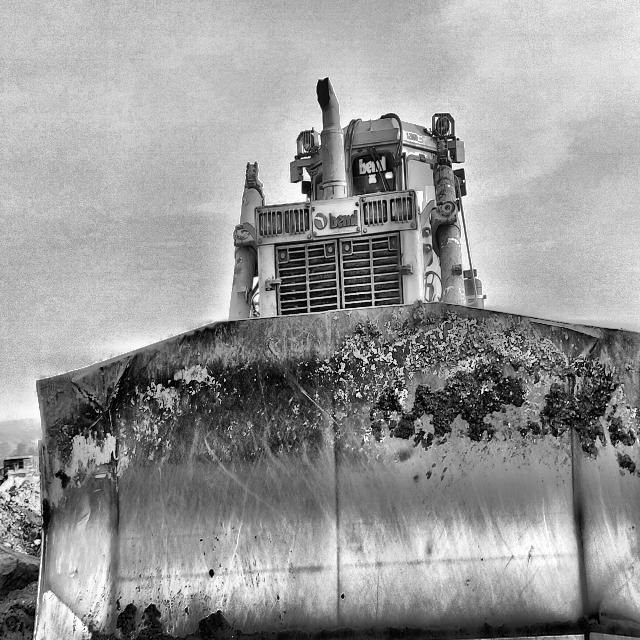buldozerpayloadergrader: (32, 80, 640, 640)
